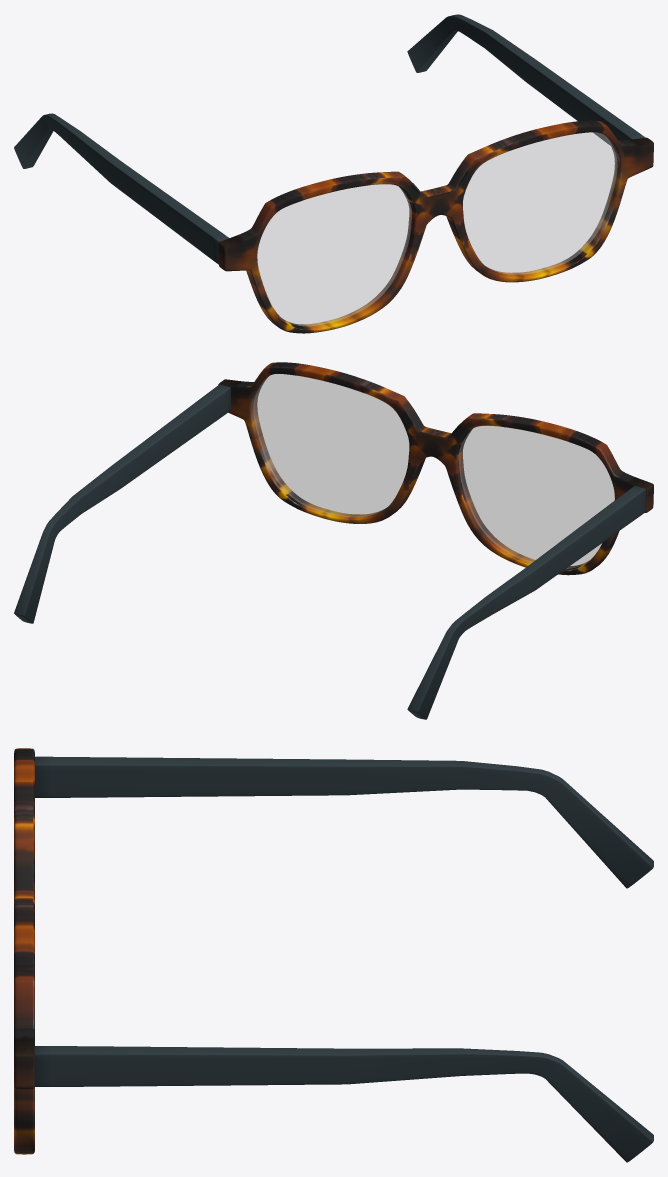
The model's file is variant-3.glb.
3 views of the same model, one above another, from view 1: azimuth 30°, elevation 25°; view 2: azimuth 150°, elevation 25°; view 3: azimuth 270°, elevation 25° (orthographic). The views are drawn at different scales.
Parts seen in each view (by area): view 1: Plane.001, Plane; view 2: Plane.001, Plane; view 3: Plane.
Boxes of the visible parts, <box> form: Plane.001: <box>257,132,617,325</box>; Plane: <box>14,14,653,333</box>; Plane.001: <box>253,374,614,568</box>; Plane: <box>14,362,653,719</box>; Plane: <box>14,748,653,1162</box>.
Size of the model in its own units: 2.19 by 0.7067 by 1.97.
4 materials, 1 textured.
